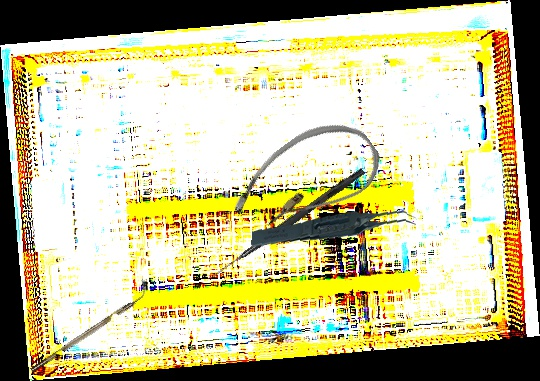Cannula: (221, 103, 392, 258)
Chopper: (26, 285, 152, 373)
Hook Surgical: (211, 166, 366, 281)
Tissue Forceps: (250, 195, 418, 265)
